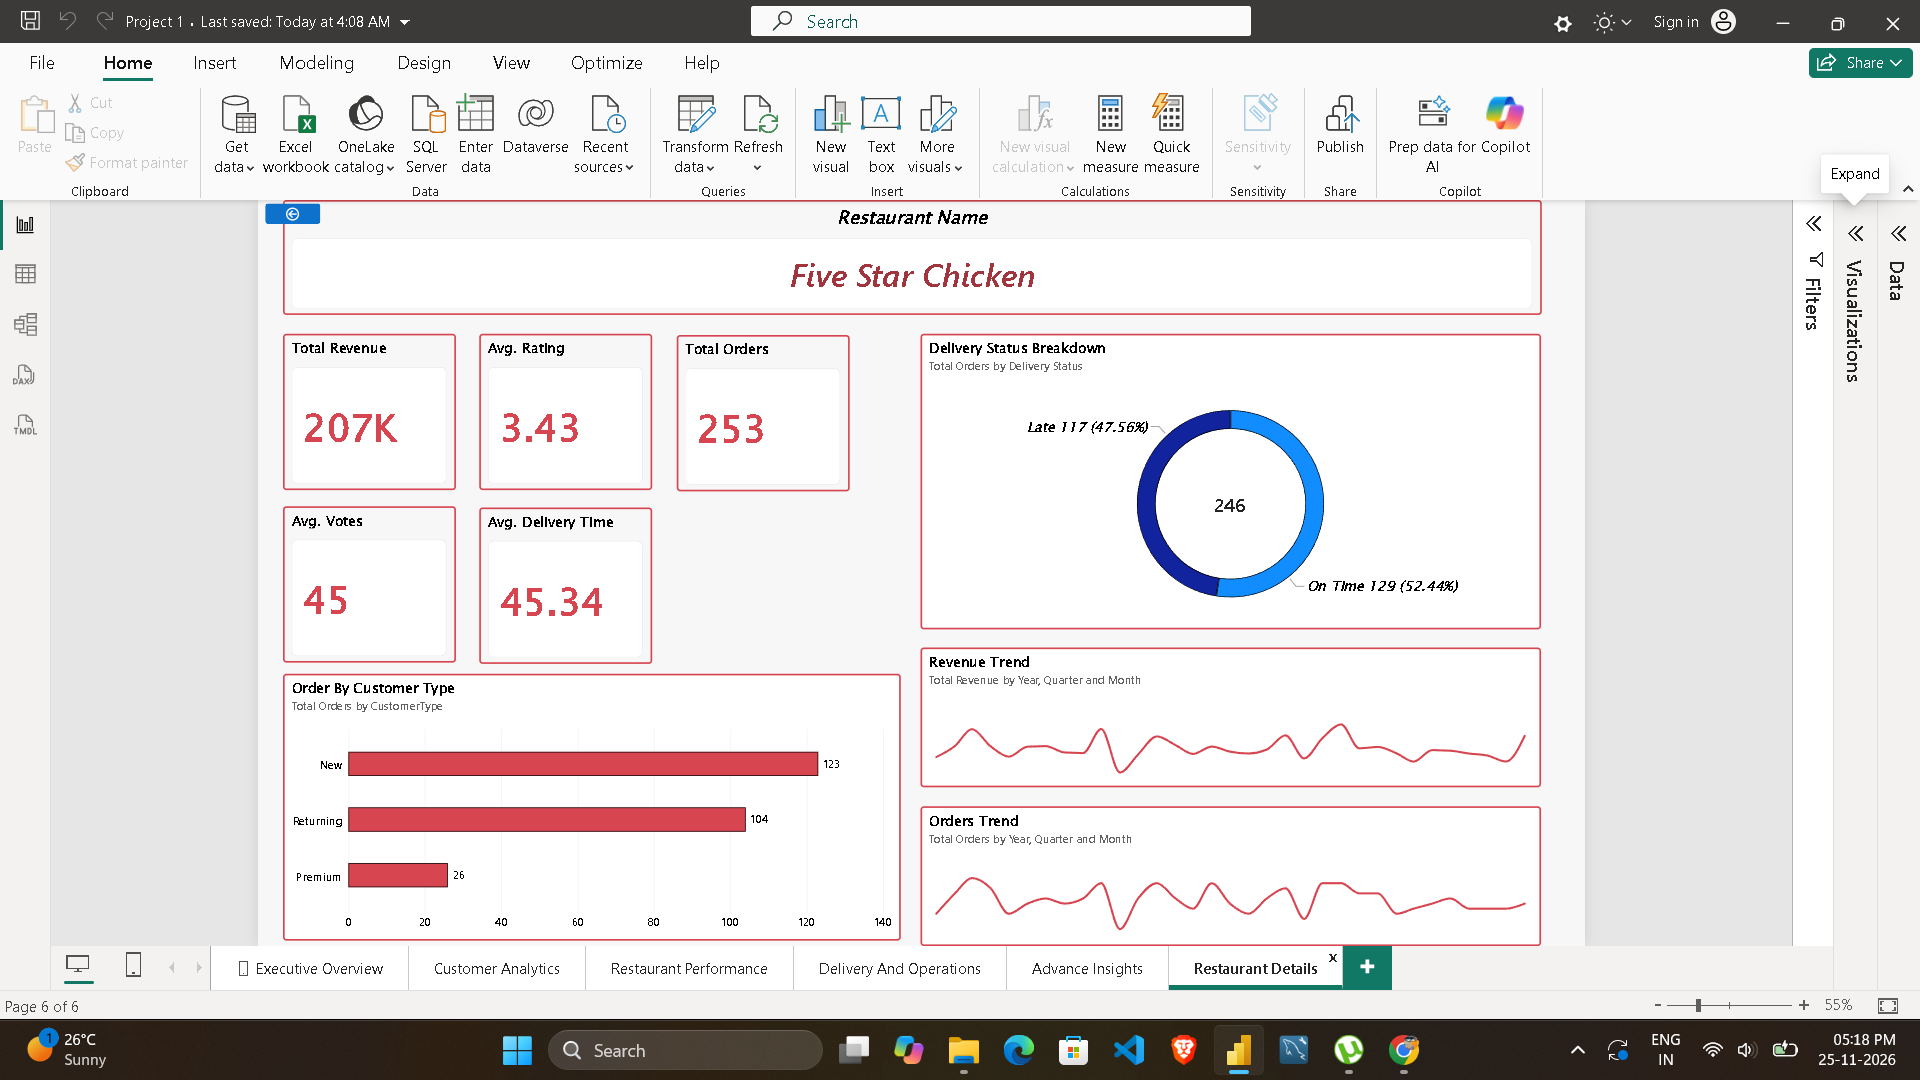

The page's visual inventory and layout, read from the dashboard file:
{"tool":"powerbi","page":{"name":"Restaurant Details","canvas":[1920,1080],"ordinal":5},"visuals":[{"type":"cardVisual","title":"Avg. Votes","fields":{"Data":["Orders.Avg Votes"]},"box":[36,444,250,226],"z":0},{"type":"cardVisual","title":"Avg. Rating","fields":{"Data":["Orders.Avg Rating"]},"box":[320,194,250,226],"z":1000},{"type":"cardVisual","title":"Total Revenue","fields":{"Data":["Orders.Total Revenue"]},"box":[36,194,250,226],"z":1001},{"type":"cardVisual","title":"Avg. Delivery TIme","fields":{"Data":["Orders.Avg Delivery Time"]},"box":[320,446,250,226],"z":1002},{"type":"cardVisual","title":"Total Orders","fields":{"Data":["Orders.Total Orders"]},"box":[606,196,250,226],"z":1003},{"type":"cardVisual","title":"Restaurant Name","fields":{"Data":["Min(Restaurants.name)"]},"box":[36,0,1822,166],"z":1004},{"type":"lineChart","title":"Revenue Trend","fields":{"Category":["DateTable.Date.Variation.Date Hierarchy.Year","DateTable.Date.Variation.Date Hierarchy.Quarter","DateTable.Date.Variation.Date Hierarchy.Month"],"Y":["Orders.Total Revenue"]},"box":[960,648,898,202],"z":1005},{"type":"lineChart","title":"Orders Trend","fields":{"Category":["DateTable.Date.Variation.Date Hierarchy.Year","DateTable.Date.Variation.Date Hierarchy.Quarter","DateTable.Date.Variation.Date Hierarchy.Month"],"Y":["Orders.Total Orders"]},"box":[960,878,898,202],"z":1006},{"type":"barChart","title":"Order By Customer Type","fields":{"Category":["Customers.CustomerType"],"Y":["Orders.Total Orders"]},"box":[36,686,894,386],"z":1007},{"type":"actionButton","box":[0,0,100,40],"z":1009},{"type":"donutChart","title":"Delivery Status Breakdown","fields":{"Category":["Orders.Delivery Status"],"Y":["Orders.Total Orders"]},"box":[960,194,898,428],"z":1010}]}

Visuals, with their boxes on the page's 1920x1080 design canvas (x1, y1, x2, y2). These are canvas units, not pixel positions in the 1920x1080 screenshot, which may show the page scaled, cropped or inside an application window:
"Avg. Votes" cardVisual: {"x1": 36, "y1": 444, "x2": 286, "y2": 670}
"Avg. Rating" cardVisual: {"x1": 320, "y1": 194, "x2": 570, "y2": 420}
"Total Revenue" cardVisual: {"x1": 36, "y1": 194, "x2": 286, "y2": 420}
"Avg. Delivery TIme" cardVisual: {"x1": 320, "y1": 446, "x2": 570, "y2": 672}
"Total Orders" cardVisual: {"x1": 606, "y1": 196, "x2": 856, "y2": 422}
"Restaurant Name" cardVisual: {"x1": 36, "y1": 0, "x2": 1858, "y2": 166}
"Revenue Trend" lineChart: {"x1": 960, "y1": 648, "x2": 1858, "y2": 850}
"Orders Trend" lineChart: {"x1": 960, "y1": 878, "x2": 1858, "y2": 1080}
"Order By Customer Type" barChart: {"x1": 36, "y1": 686, "x2": 930, "y2": 1072}
actionButton: {"x1": 0, "y1": 0, "x2": 100, "y2": 40}
"Delivery Status Breakdown" donutChart: {"x1": 960, "y1": 194, "x2": 1858, "y2": 622}
